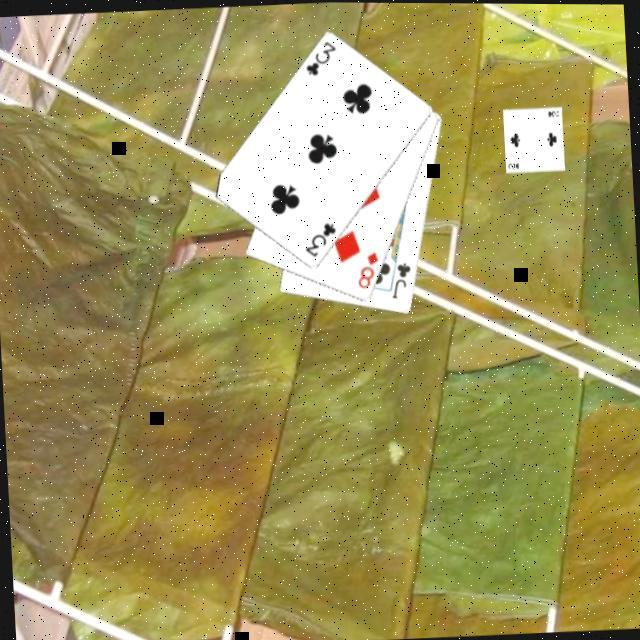3C: (302, 217, 342, 259), (302, 35, 342, 77)
8D: (355, 246, 385, 290)
JC: (390, 257, 418, 299)
